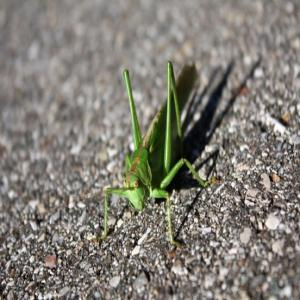locust: (106, 42, 212, 231)
